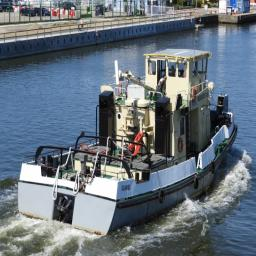tugboat: (16, 45, 241, 241)
